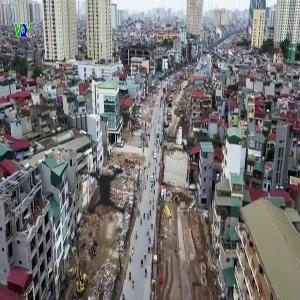drone: (58, 141, 167, 250)
